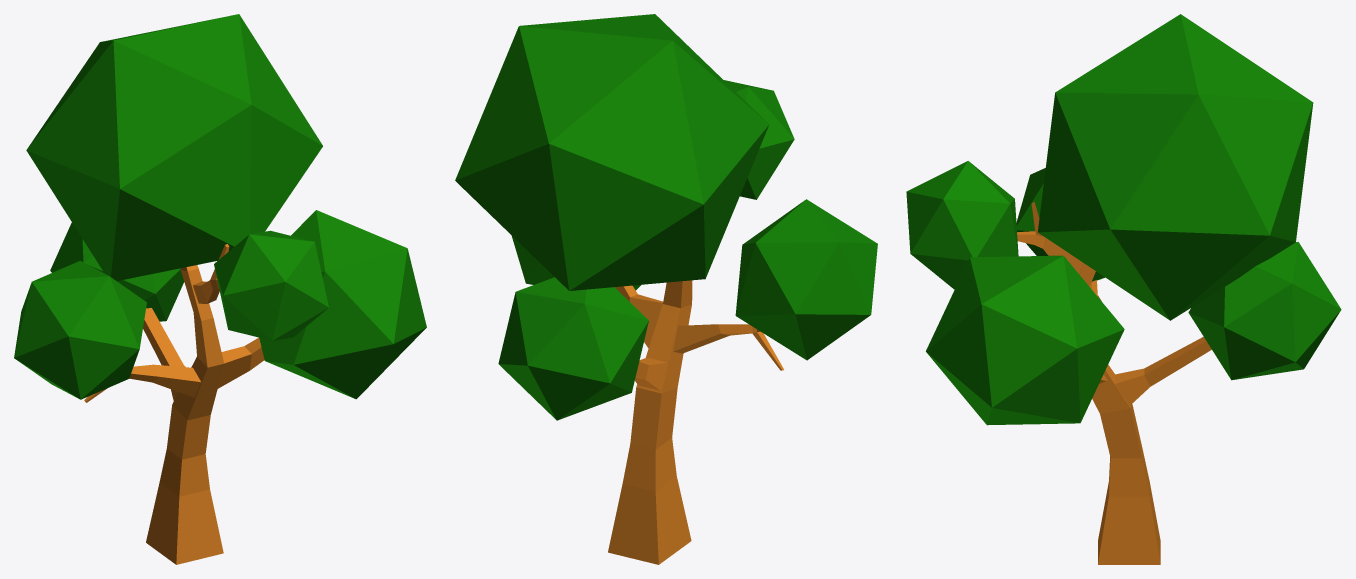
File: Tree1_003.fbx
3 renders of one model, left to right at view 1: azimuth 30°, elevation 25°; view 2: azimuth 150°, elevation 25°; view 3: azimuth 270°, elevation 25°, orthographic. The views are drawn at different scales.
Parts seen in each view (by area): view 1: Icosphere.001; view 2: Icosphere.001; view 3: Icosphere.001.
Boxes of the visible parts, <box> form: Icosphere.001: <box>14,14,426,564</box>; Icosphere.001: <box>455,14,877,564</box>; Icosphere.001: <box>906,14,1341,564</box>.
Bounding box in the file's own units: 298 × 392 × 300.
